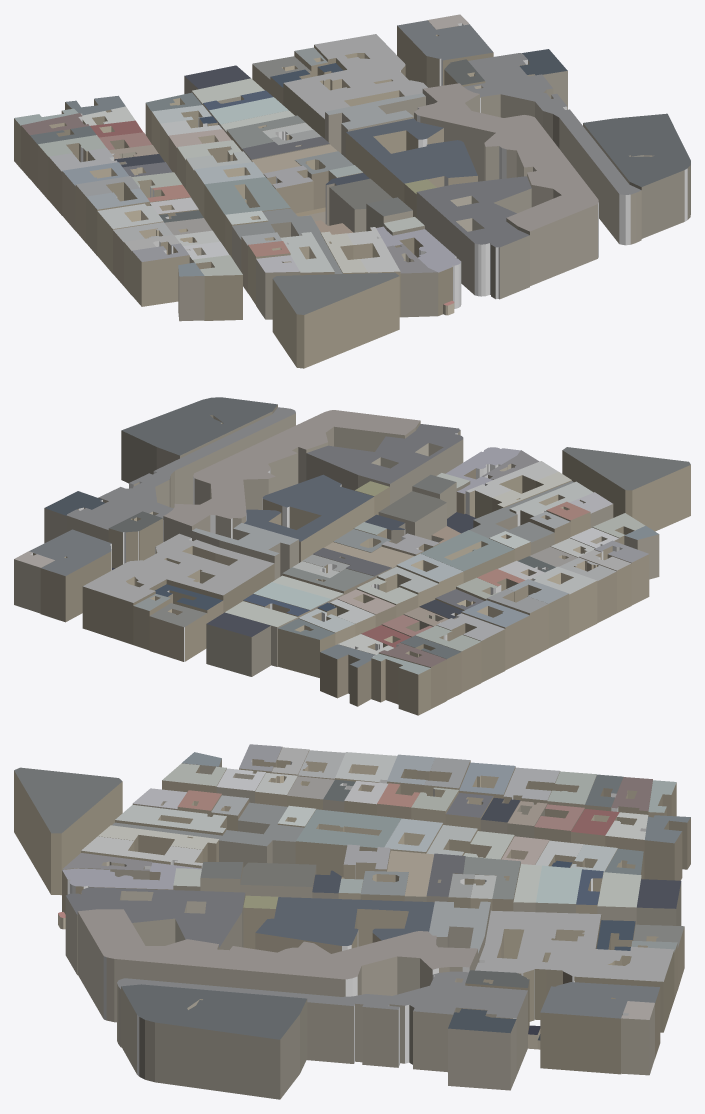
3 renders of one model, top to bottom at view 1: azimuth 30°, elevation 25°; view 2: azimuth 150°, elevation 25°; view 3: azimuth 270°, elevation 25°, orthographic. The views are drawn at different scales.
Visible parts, largest first — view 1: tuile; view 2: tuile; view 3: tuile.
Part boxes in pixels (x1,y1,x2,y2): tuile: (14,14,690,368); tuile: (14,397,690,715); tuile: (14,744,690,1099).
Bounding box in the file's own units: 277 × 27.9 × 260.
